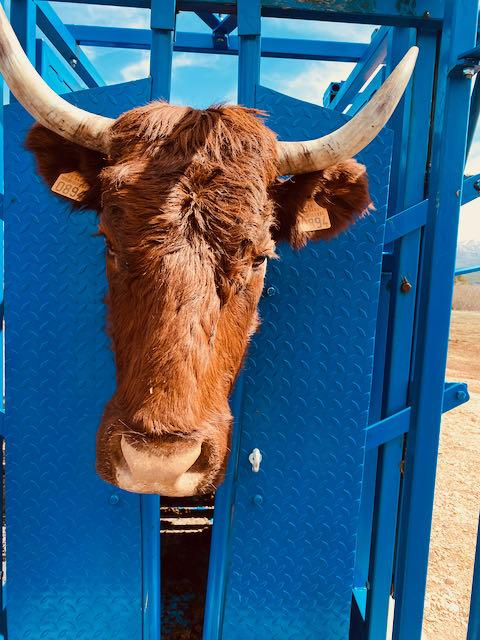muzzles: (88, 412, 237, 508)
